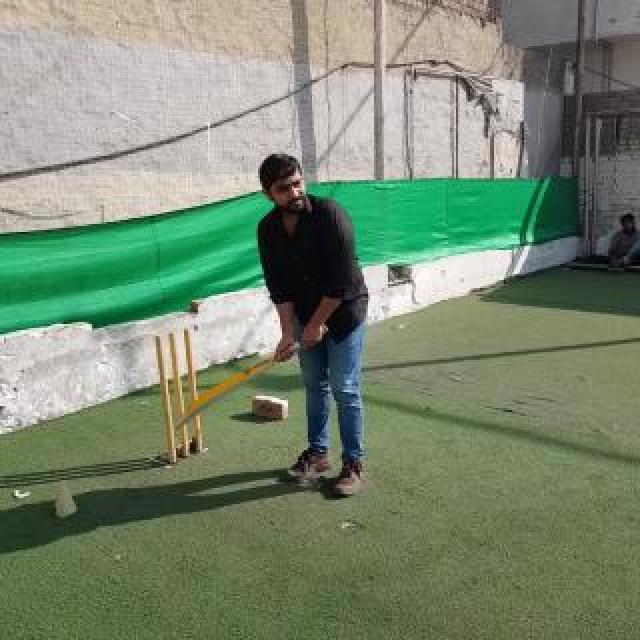bat: (174, 324, 328, 430)
